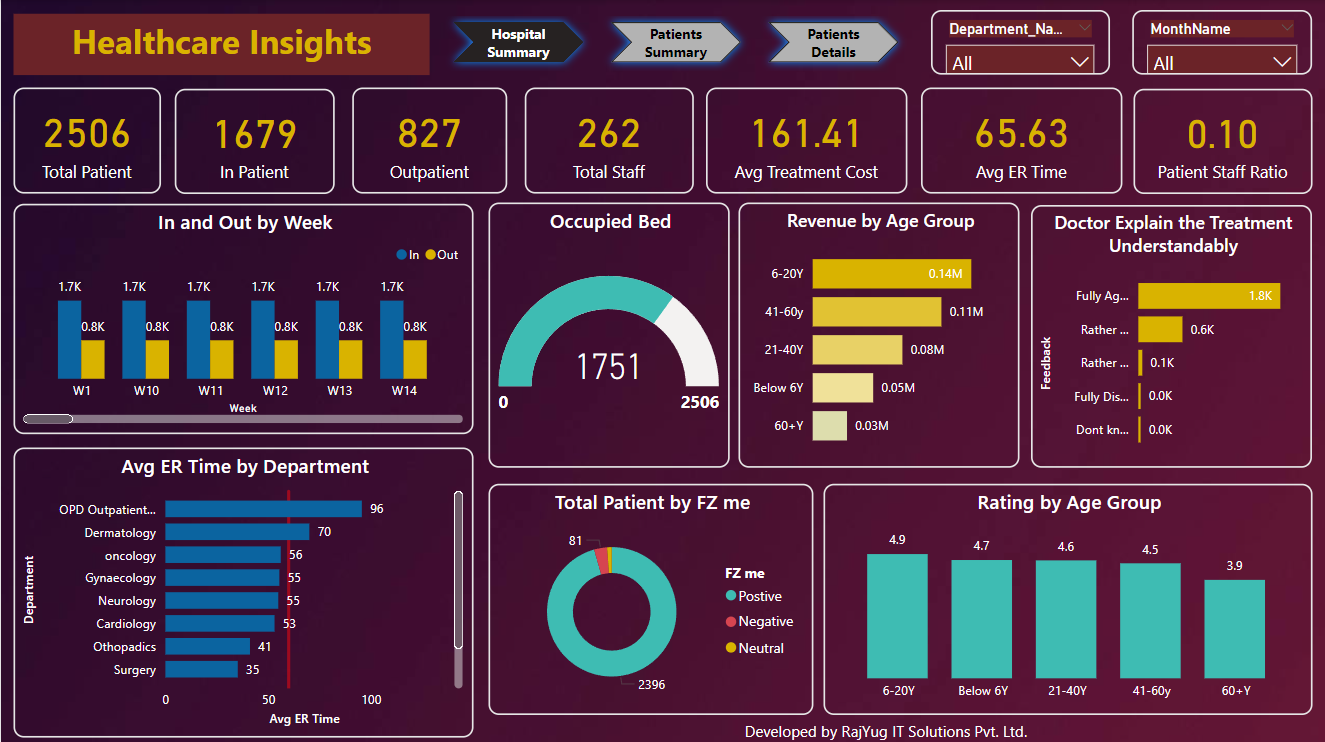

Layout of this report page (visuals, bound fields, positions):
{"tool":"powerbi","page":{"name":"Hospital Summary ","canvas":[1280,720],"ordinal":0},"visuals":[{"type":"card","fields":{"Values":["Measure.Total Patient"]},"box":[12.1,84.5,142.4,102.5],"z":1000},{"type":"textbox","box":[12.1,13.3,401.7,59.1],"z":2000},{"type":"slicer","fields":{"Values":["Department.Department_Name"]},"box":[897.6,9.7,172.5,62.7],"z":3000},{"type":"slicer","fields":{"Values":["Calendar_date.MonthName"]},"box":[1091.8,9.7,173.7,62.7],"z":4000},{"type":"card","fields":{"Values":["Measure.In Patient"]},"box":[167.7,85.7,154.4,101.3],"z":5000},{"type":"card","fields":{"Values":["Measure.Outpatient"]},"box":[339,84.5,149.6,102.5],"z":6000},{"type":"card","fields":{"Values":["Bed_Detail.total Staff"]},"box":[505.5,84.5,162.9,102.5],"z":7000},{"type":"card","fields":{"Values":["Measure.Avg Treatment Cost"]},"box":[680.4,84.5,194.2,102.5],"z":8000},{"type":"card","fields":{"Values":["Bed_Detail.Patient Staff Ratio"]},"box":[1093,85.7,172.5,101.3],"z":9000},{"type":"clusteredColumnChart","fields":{"Y":["Calendar_date.In Patient","Calendar_date.Outpatient"],"Category":["Calendar_date.WeekName"]},"box":[12.3,196.1,444.2,222.1],"z":10000},{"type":"gauge","fields":{"Y":["Measure.Occupied Bed"]},"box":[470.5,195.4,232.8,255.8],"z":11000},{"type":"clusteredBarChart","title":"Revenue by Age Group","fields":{"Y":["Measure.Total Revenue"],"Category":["Detail data dataset.Age Bucket"]},"box":[711.8,195.4,271.4,255.8],"z":12000},{"type":"barChart","fields":{"Y":["Measure.Avg ER Time"],"Category":["Department.Department_Name"]},"box":[12.1,431.9,444,279.9],"z":13000},{"type":"barChart","title":"Doctor Explain the Treatment Understandably","fields":{"Y":["Measure.Total Patient"],"Category":["Detail data dataset.Feedback"]},"box":[994.1,197.9,271.4,253.4],"z":14000},{"type":"columnChart","title":"Rating by Age Group","fields":{"Y":["Measure.Rating"],"Category":["Detail data dataset.Age Bucket"]},"box":[793.8,466.9,471.7,223.2],"z":15000},{"type":"donutChart","fields":{"Y":["Measure.Total Patient"],"Category":["Detail data dataset.FZ me"]},"box":[470.5,466.9,313.7,223.2],"z":16000},{"type":"pageNavigator","box":[428.3,13.3,446.4,55.5],"z":17000},{"type":"card","fields":{"Values":["Measure.Avg ER Time"]},"box":[887.9,84.5,194.2,102.5],"z":18000},{"type":"textbox","box":[656.3,690.1,395.7,30.2],"z":19000}]}

Visuals, with their boxes in screenshot pixels (x1, y1, x2, y2), scaled from the page's 1280x720 canvas onto the 1325x742 screenshot:
card - Measure.Total Patient: box(13, 87, 160, 193)
textbox: box(13, 14, 428, 75)
slicer - Department.Department_Name: box(929, 10, 1108, 75)
slicer - Calendar_date.MonthName: box(1130, 10, 1310, 75)
card - Measure.In Patient: box(174, 88, 333, 193)
card - Measure.Outpatient: box(351, 87, 506, 193)
card - Bed_Detail.total Staff: box(523, 87, 692, 193)
card - Measure.Avg Treatment Cost: box(704, 87, 905, 193)
card - Bed_Detail.Patient Staff Ratio: box(1131, 88, 1310, 193)
clusteredColumnChart - Calendar_date.In Patient x Calendar_date.Outpatient: box(13, 202, 473, 431)
gauge - Measure.Occupied Bed: box(487, 201, 728, 465)
"Revenue by Age Group" clusteredBarChart: box(737, 201, 1018, 465)
barChart - Measure.Avg ER Time x Department.Department_Name: box(13, 445, 472, 734)
"Doctor Explain the Treatment Understandably" barChart: box(1029, 204, 1310, 465)
"Rating by Age Group" columnChart: box(822, 481, 1310, 711)
donutChart - Measure.Total Patient x Detail data dataset.FZ me: box(487, 481, 812, 711)
pageNavigator: box(443, 14, 905, 71)
card - Measure.Avg ER Time: box(919, 87, 1120, 193)
textbox: box(679, 711, 1089, 741)
